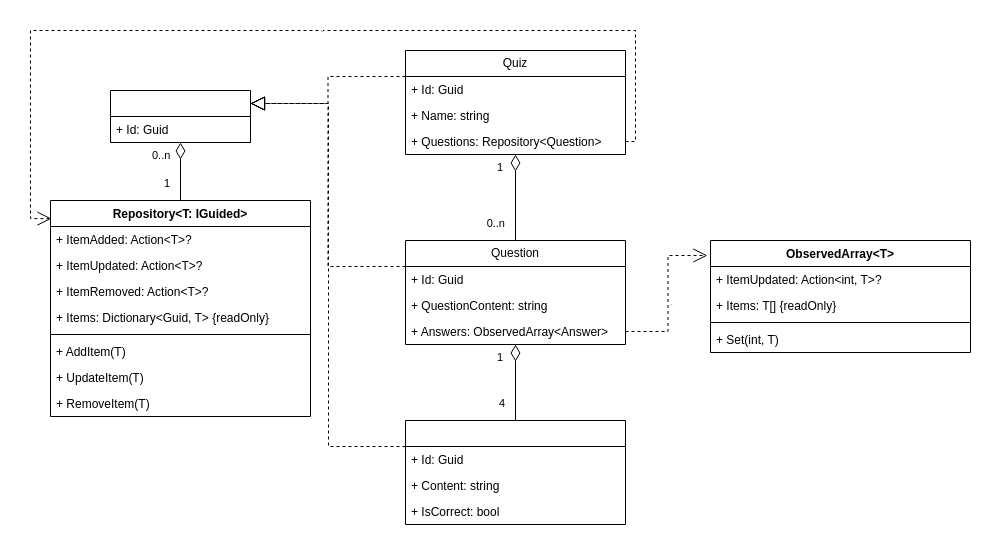
Image size: 988x545. Some labels were removed from this diagram. The shapes that lost their labels are listed below. From the top down, each one's box as (x1, y1, x2, y2) in pixels, then its label:
(110, 90, 250, 142): IGuided
(404, 420, 626, 524): Answer
